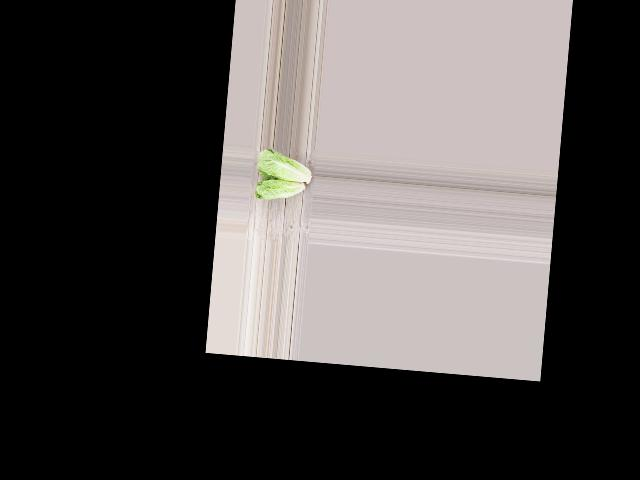lettuce: (254, 146, 316, 184)
